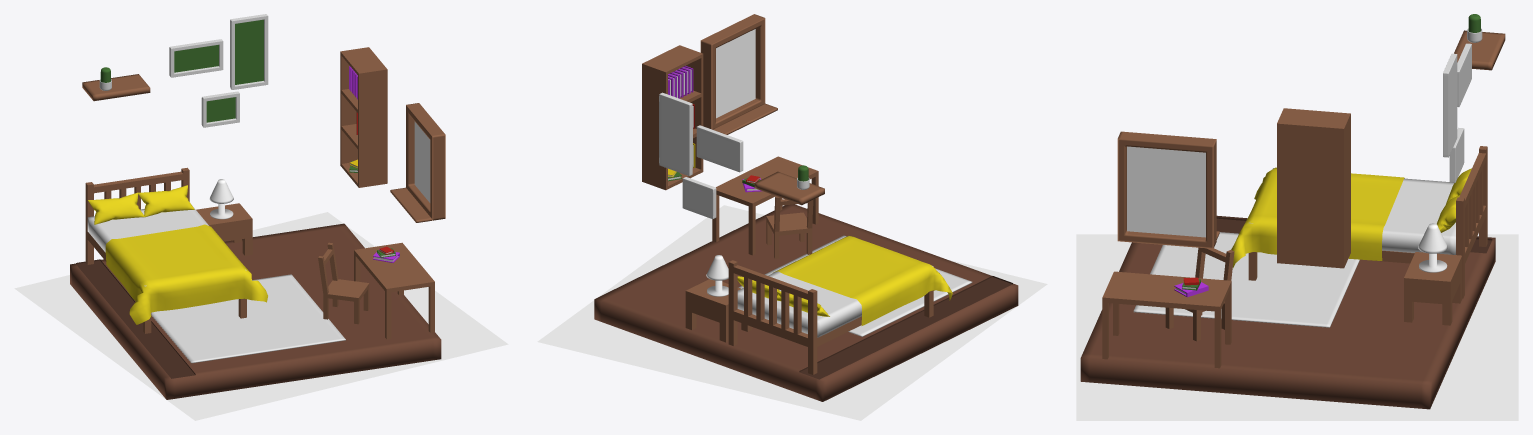
The picture shows the model from 3 angles, left to right: view 1: azimuth 30°, elevation 25°; view 2: azimuth 150°, elevation 25°; view 3: azimuth 270°, elevation 25°; orthographic projection. The views are drawn at different scales.
Visible parts, largest first — view 1: Cube.402, nl_floor, Plane.050, Plane.051, Cube.414, Cube.413, Cube.409, Cube.412, Cube.417, Cube.408, Cube.416, Cube.415 (+6 smaller); view 2: Cube.402, nl_floor, Plane.050, Cube.416, Cube.408, Cube.414, Cube.413, Cube.417, Plane.047, Cube.412, Cube.415, Cube.406 (+4 smaller); view 3: Cube.402, nl_floor, Cube.414, Plane.051, Plane.047, Plane.050, Cube.412, Cube.413, Cube.415, Cube.416, Cube.406, Cube.408 (+5 smaller).
Part boxes in pixels (x1=…): Cube.402: x1=70, y1=223, x2=441, y2=399; nl_floor: x1=14, y1=212, x2=508, y2=420; Plane.050: x1=105, y1=224, x2=267, y2=324; Plane.051: x1=151, y1=274, x2=345, y2=363; Cube.414: x1=340, y1=47, x2=387, y2=187; Cube.413: x1=390, y1=103, x2=445, y2=222; Cube.409: x1=174, y1=19, x2=263, y2=122; Cube.412: x1=354, y1=242, x2=434, y2=339; Cube.417: x1=76, y1=259, x2=195, y2=378; Cube.408: x1=169, y1=14, x2=268, y2=127; Cube.416: x1=85, y1=167, x2=246, y2=333; Cube.415: x1=87, y1=205, x2=246, y2=286; Cube.402: x1=594, y1=204, x2=1018, y2=401; nl_floor: x1=537, y1=205, x2=1047, y2=420; Plane.050: x1=773, y1=235, x2=952, y2=325; Cube.416: x1=728, y1=260, x2=933, y2=374; Cube.408: x1=659, y1=92, x2=743, y2=218; Cube.414: x1=642, y1=45, x2=703, y2=190; Cube.413: x1=700, y1=14, x2=777, y2=134; Cube.417: x1=799, y1=276, x2=1012, y2=379; Plane.047: x1=716, y1=29, x2=755, y2=118; Cube.412: x1=712, y1=156, x2=818, y2=255; Cube.415: x1=737, y1=236, x2=933, y2=337; Cube.406: x1=685, y1=279, x2=752, y2=342; Cube.402: x1=1080, y1=215, x2=1495, y2=409; nl_floor: x1=1076, y1=234, x2=1518, y2=420; Cube.414: x1=1277, y1=108, x2=1350, y2=268; Plane.051: x1=1133, y1=232, x2=1359, y2=327; Plane.047: x1=1127, y1=146, x2=1205, y2=237; Plane.050: x1=1231, y1=167, x2=1404, y2=267; Cube.412: x1=1102, y1=271, x2=1231, y2=368; Cube.413: x1=1117, y1=131, x2=1219, y2=248; Cube.415: x1=1249, y1=168, x2=1455, y2=254; Cube.416: x1=1248, y1=146, x2=1487, y2=298; Cube.406: x1=1404, y1=252, x2=1462, y2=325; Cube.408: x1=1443, y1=43, x2=1471, y2=182.
Bounding box in the file's own units: 10 × 7.34 × 10.
